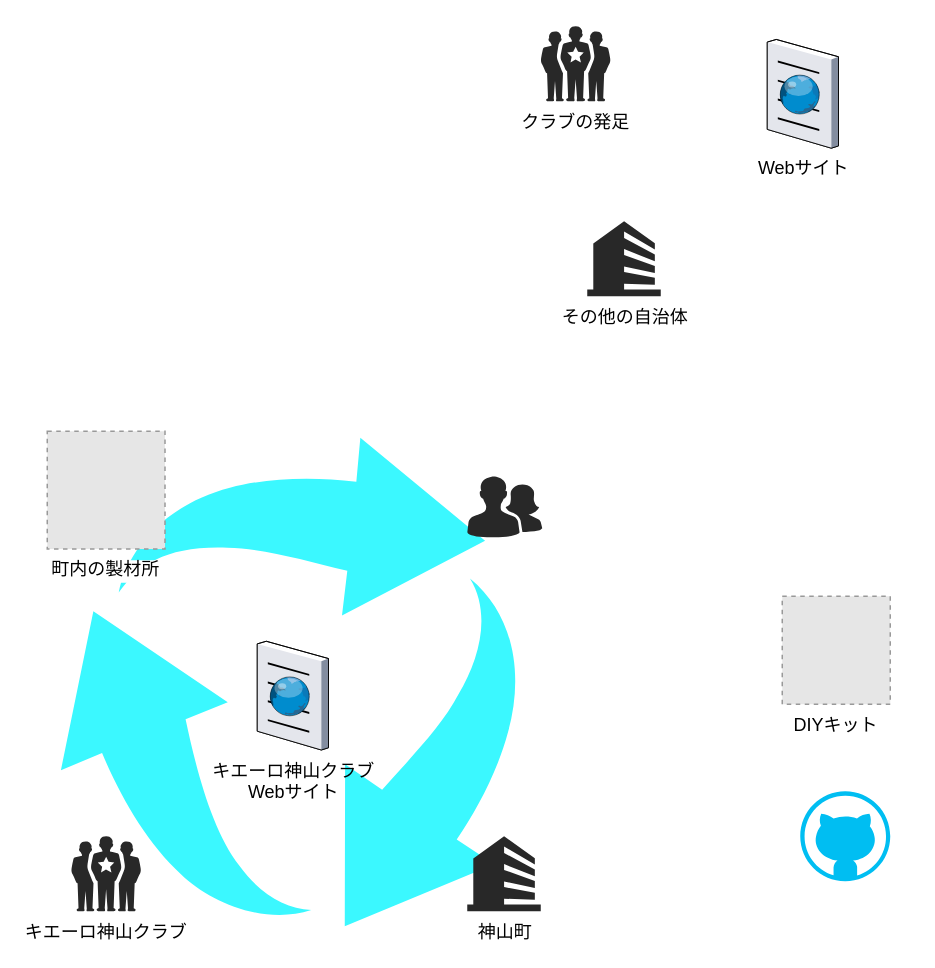
Some shapes in this 935 by 968 pixel diagram are drawn without their labels. Grey dashed boxes stand in for pictures. The shapes that lost their labels are listed below. From the top down, each one's box as (x1, y1, x2, y2) in pixels, then its label:
(466, 475, 542, 537): 住民
(800, 790, 890, 880): オープンソース ソフトウェア
